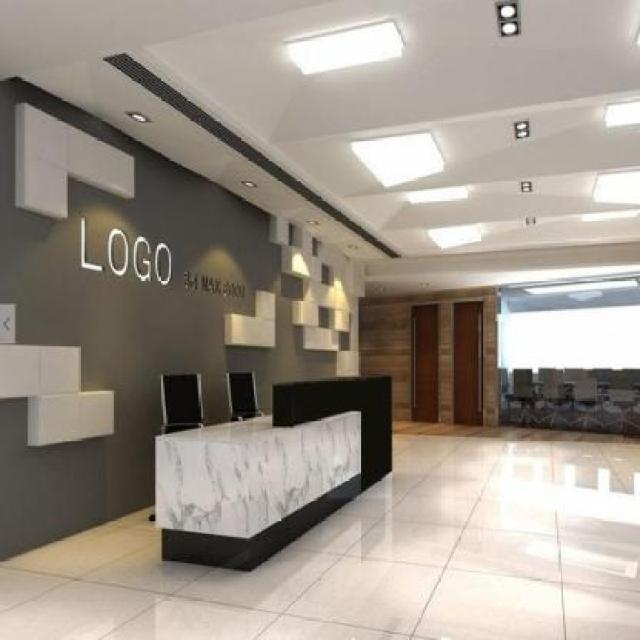frontdesk: (146, 362, 399, 586)
